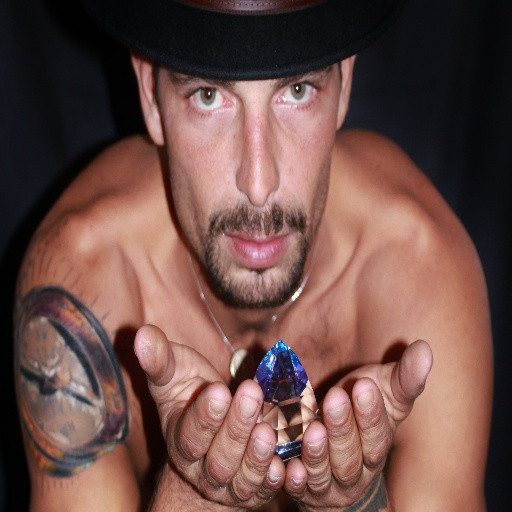hand: (116, 310, 297, 504), (285, 336, 435, 511)
